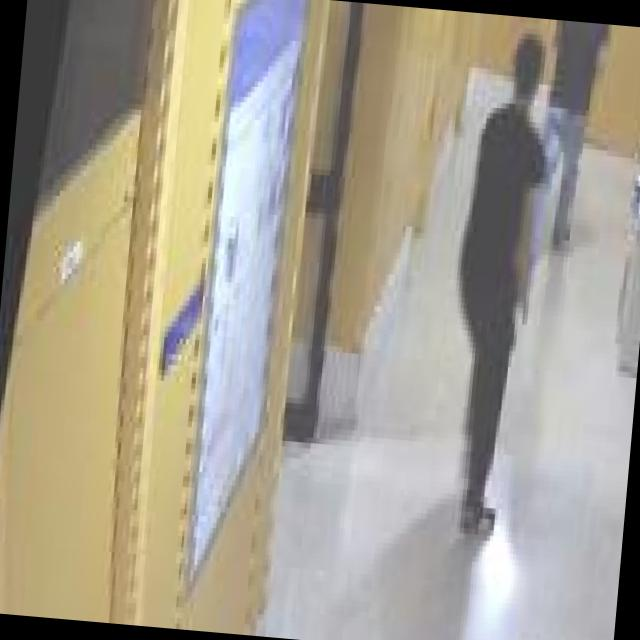Guns: (511, 250, 535, 338)
